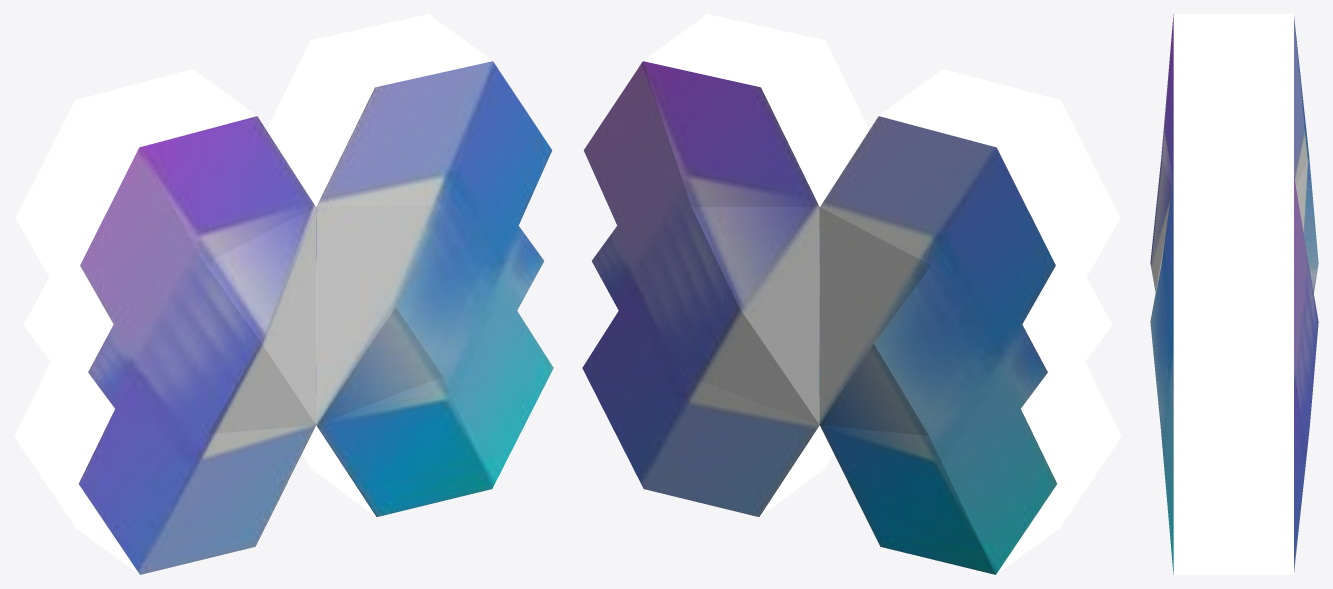
Rendered from exe.glb.
3 renders of one model, left to right at view 1: azimuth 30°, elevation 25°; view 2: azimuth 150°, elevation 25°; view 3: azimuth 270°, elevation 25°, orthographic. The views are drawn at different scales.
Visible parts, largest first — view 1: Plane.002; view 2: Plane.002; view 3: Plane.002.
Boxes of the visible parts, left/top/right/bottom form: Plane.002: left=14, top=14, right=553, bottom=574; Plane.002: left=582, top=14, right=1121, bottom=574; Plane.002: left=1150, top=14, right=1318, bottom=574.
Bounding box in the file's own units: 2.96 × 2.56 × 0.9694.
Materials: 2 (1 with a texture image).
